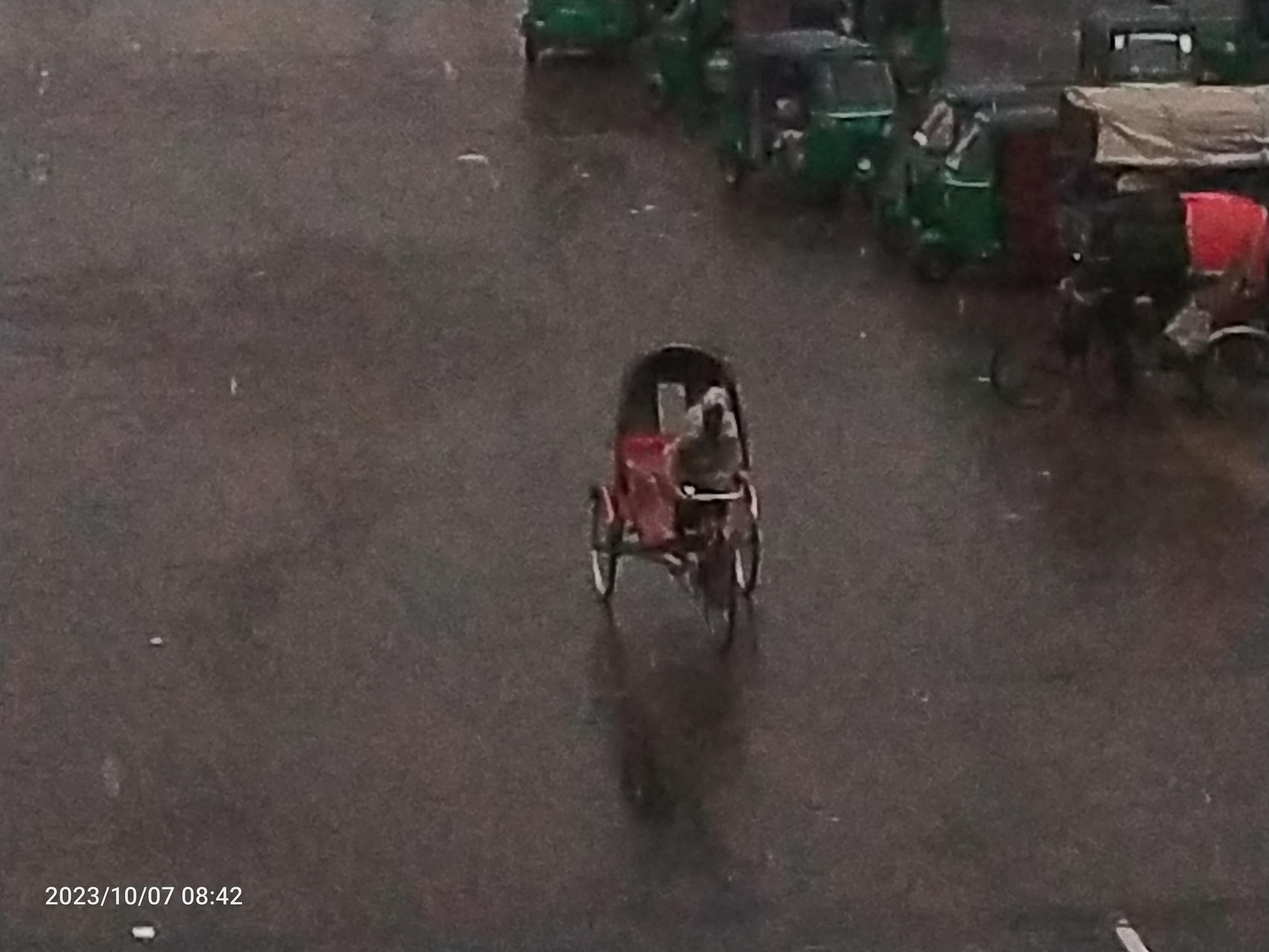Car: (524, 287, 898, 699), (959, 163, 1269, 435)
